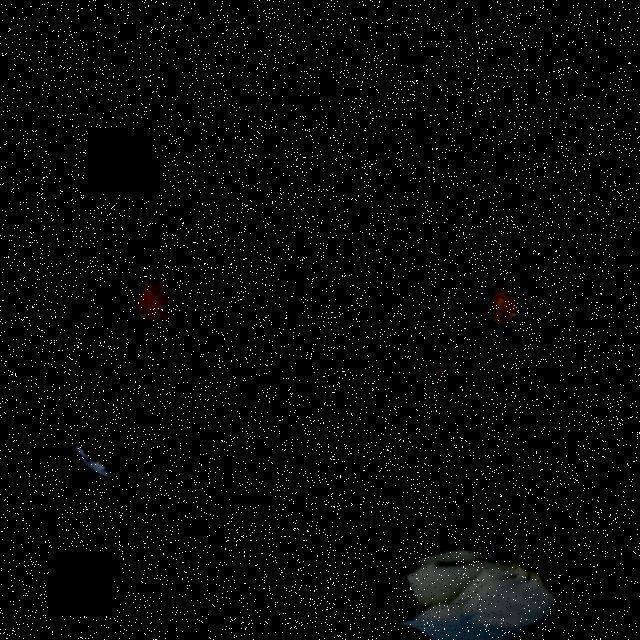egg: (39, 228, 234, 482), (402, 238, 562, 460)
